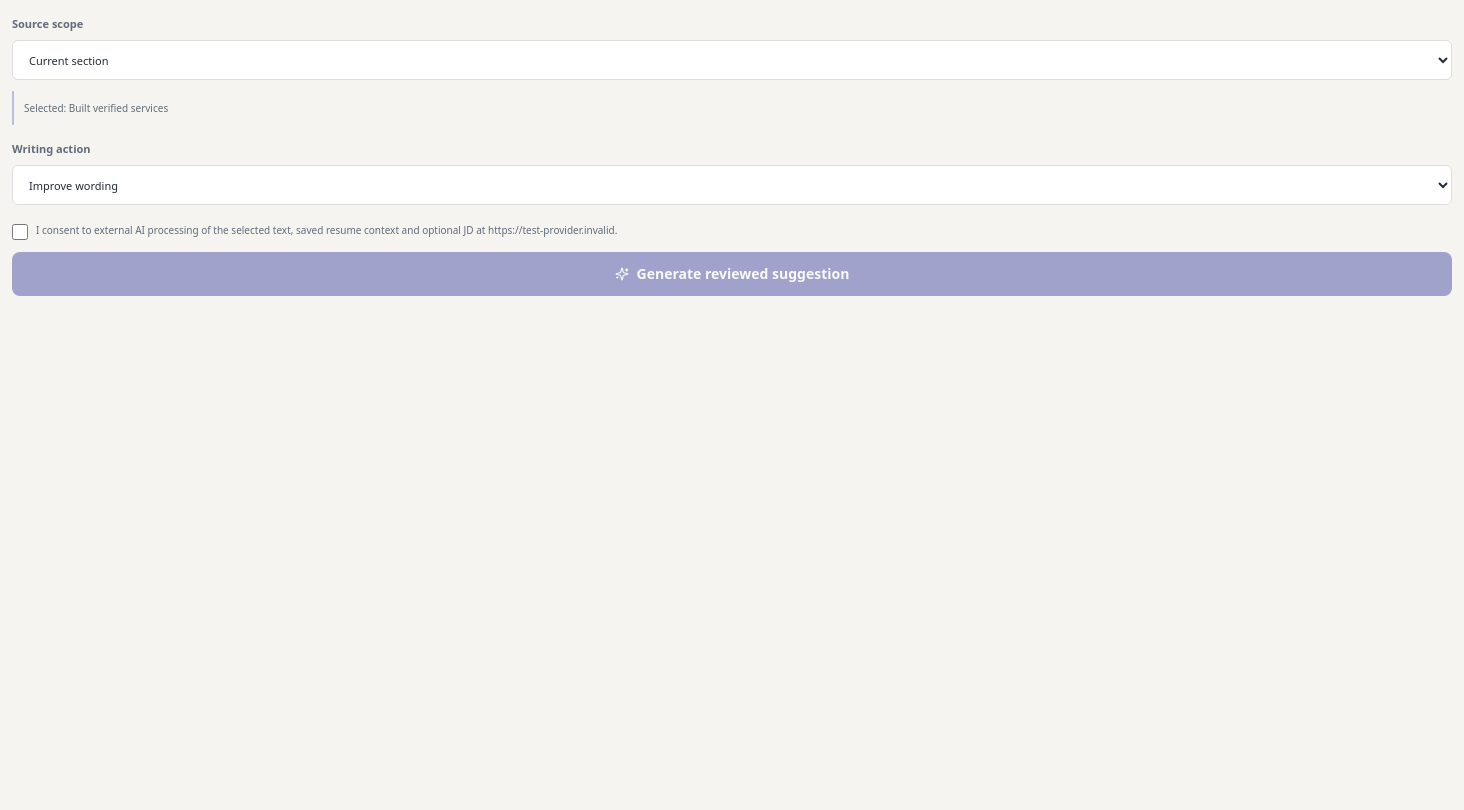
Test case: reviewed studio writing › rejects a proposal without replacing existing content
The width and height of the screenshot is (1464, 810).
Select "Selected text only" in the dropdown labelled "Source scope" at (732, 60), box [12,40,1452,80]
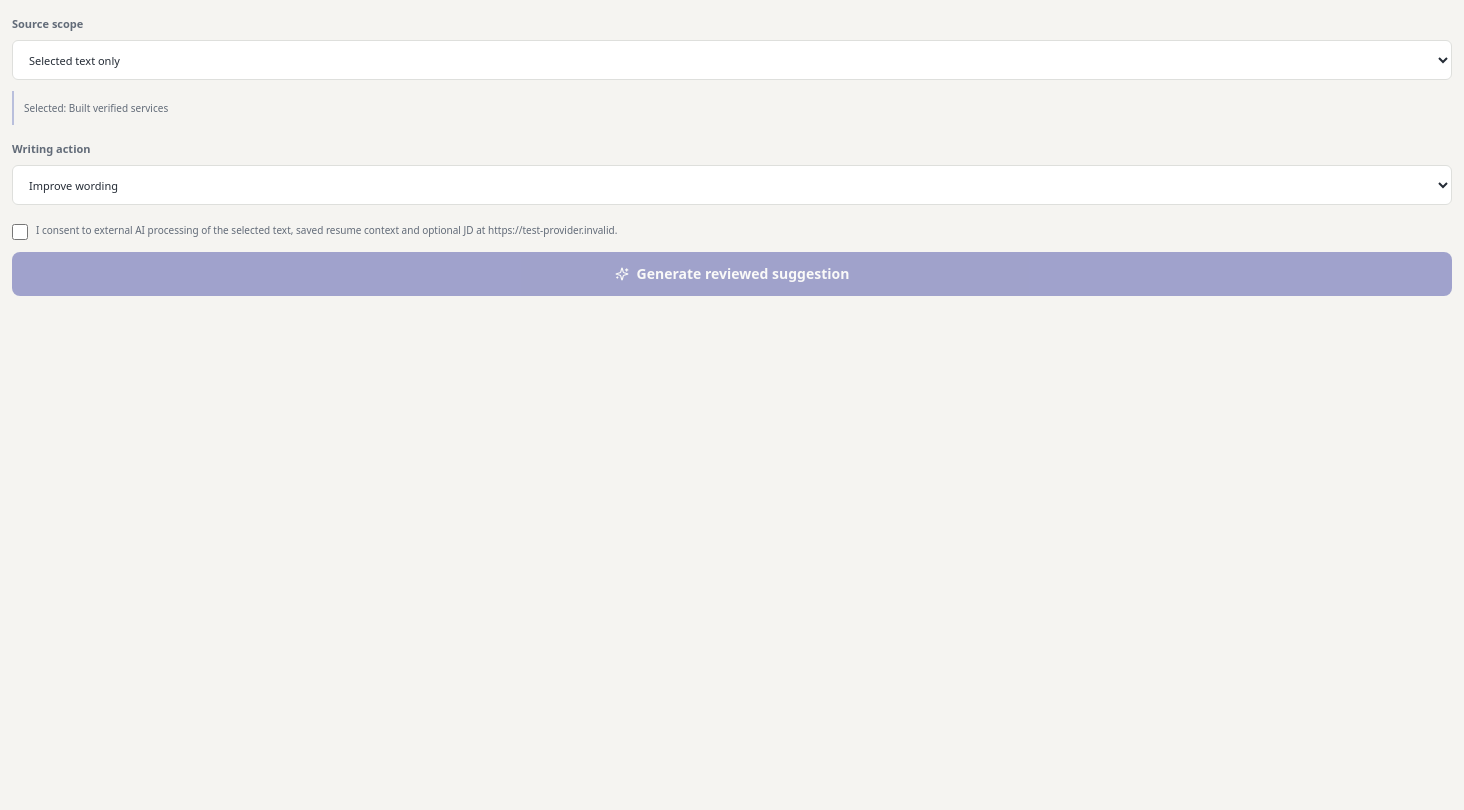
Click the checkbox labelled "I consent to external AI processing" at (20, 232), box [12,224,28,240]
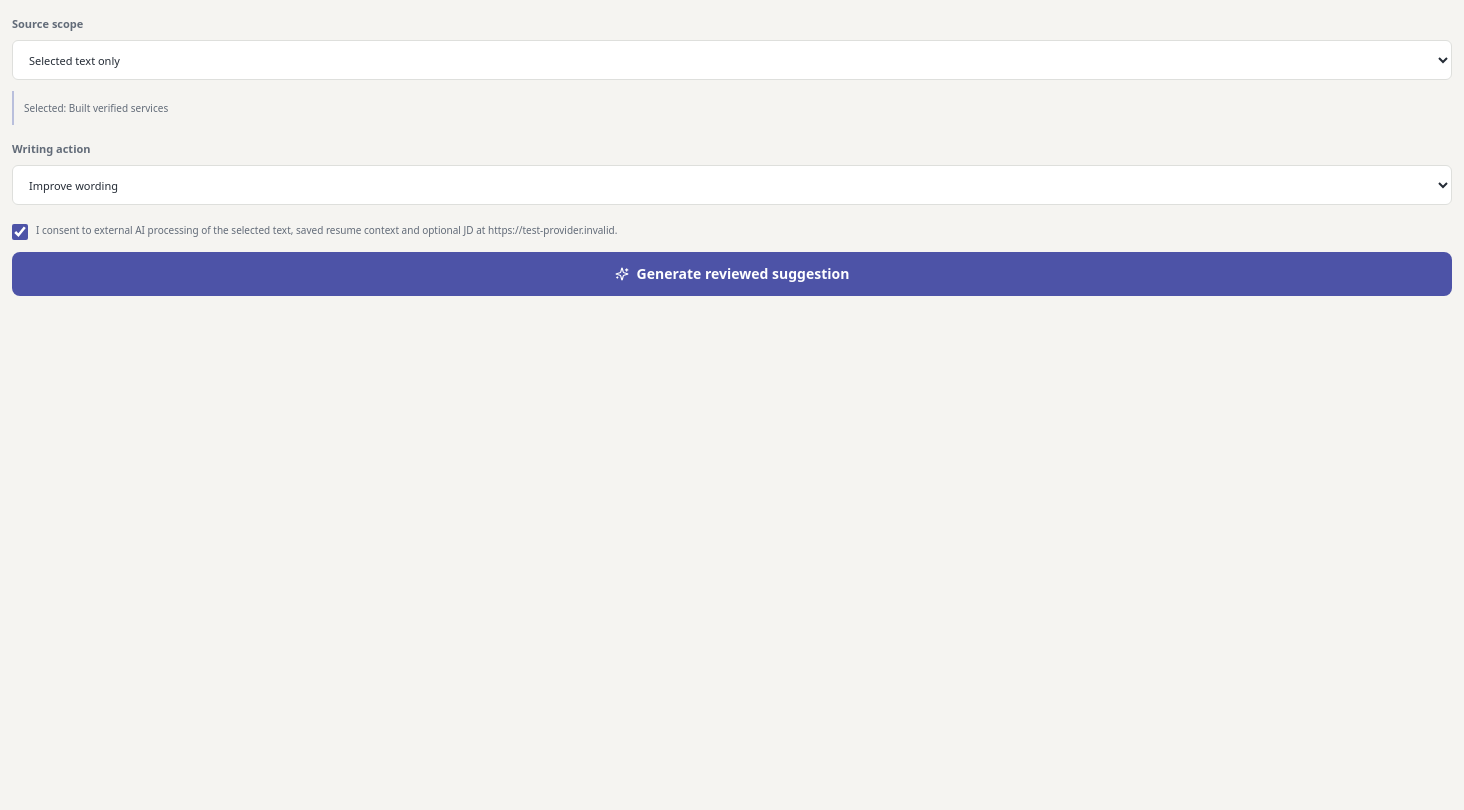
Click the button "Generate reviewed suggestion" at (732, 274), box [12,252,1452,296]
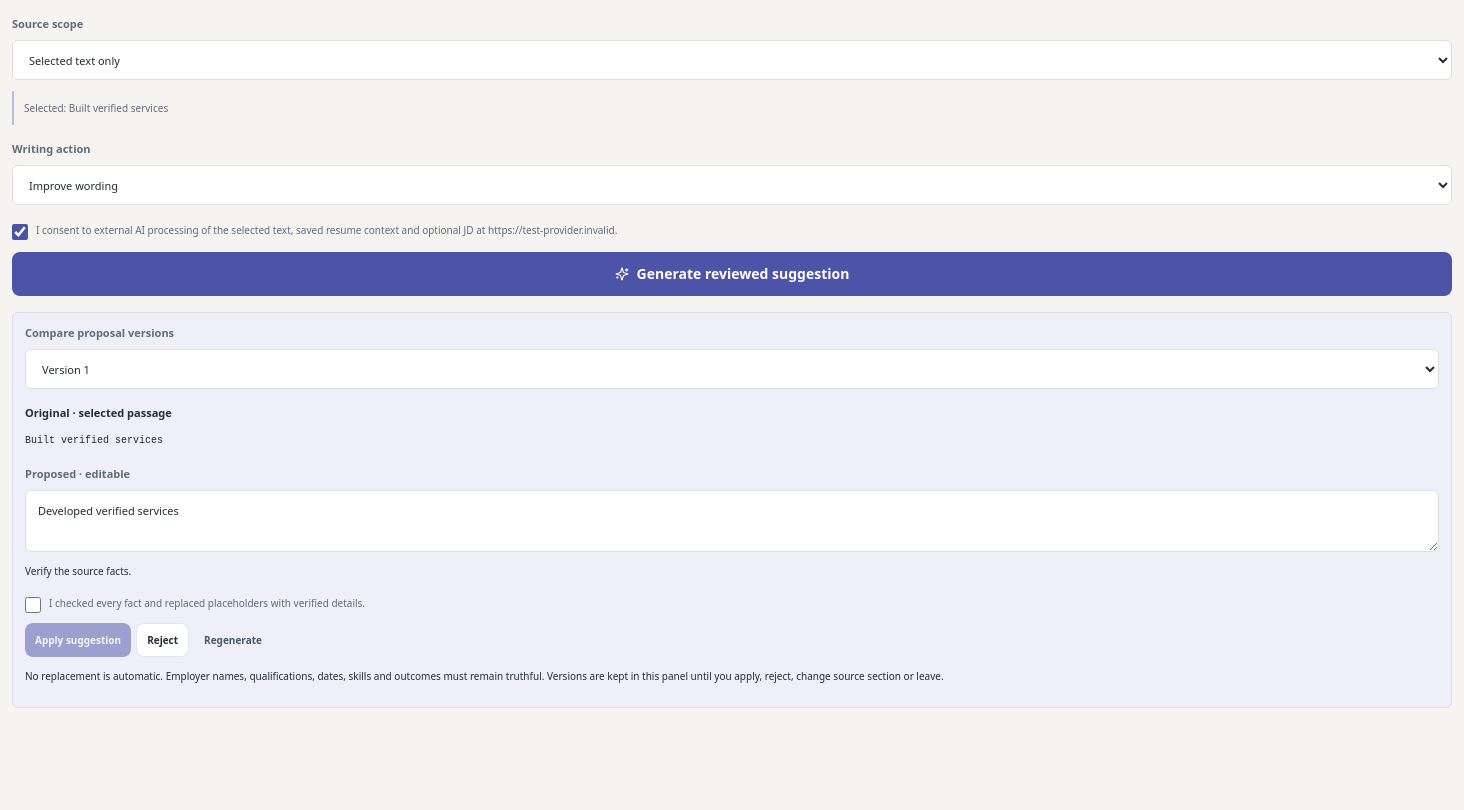
Expected: the text box labelled "Proposed · editable" is shown, [25,490,1439,552]
Click the button "Reject" at (163, 640), box [136,622,189,656]
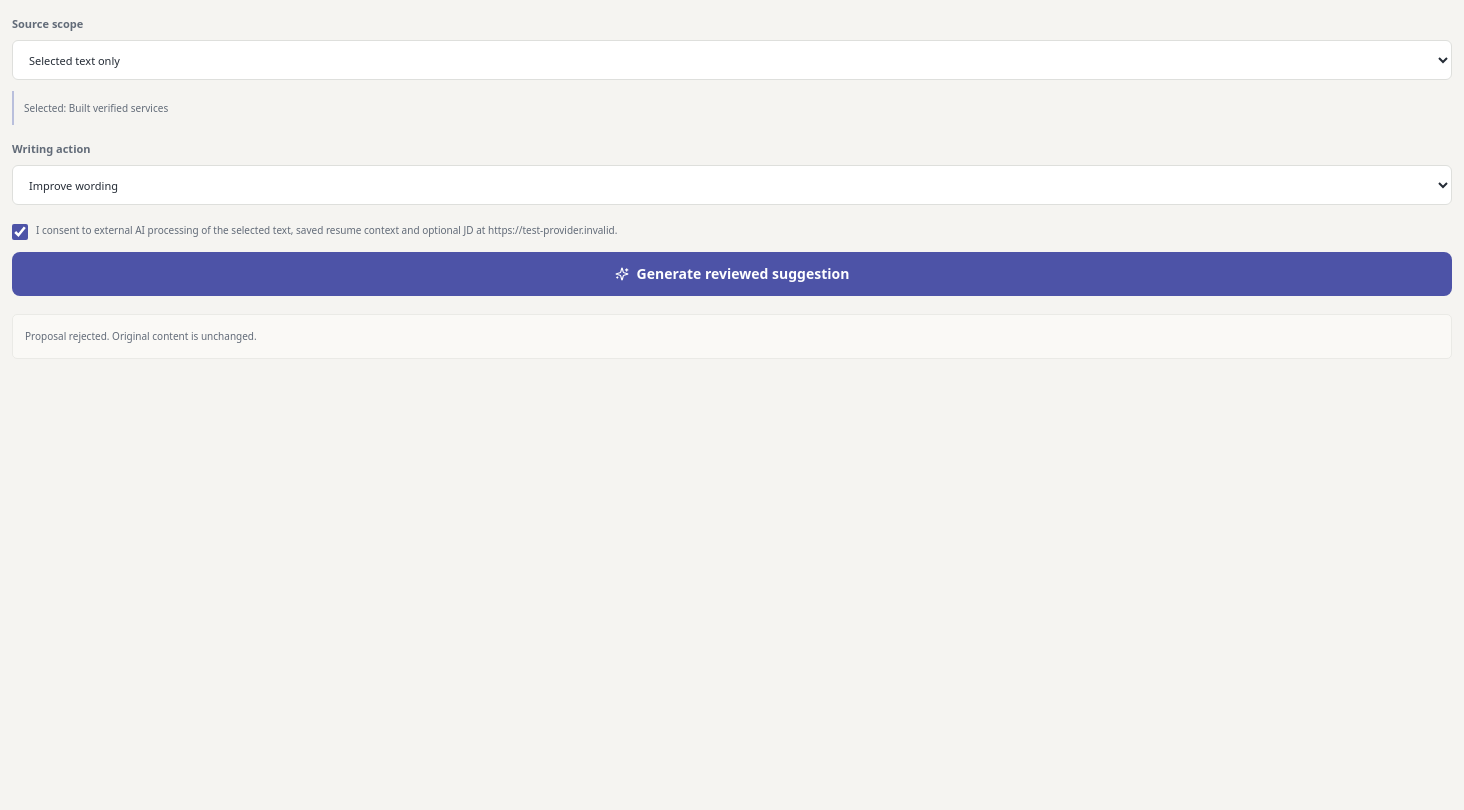
Expected: the message shows "Original content is unchanged", [25,329,257,343]
